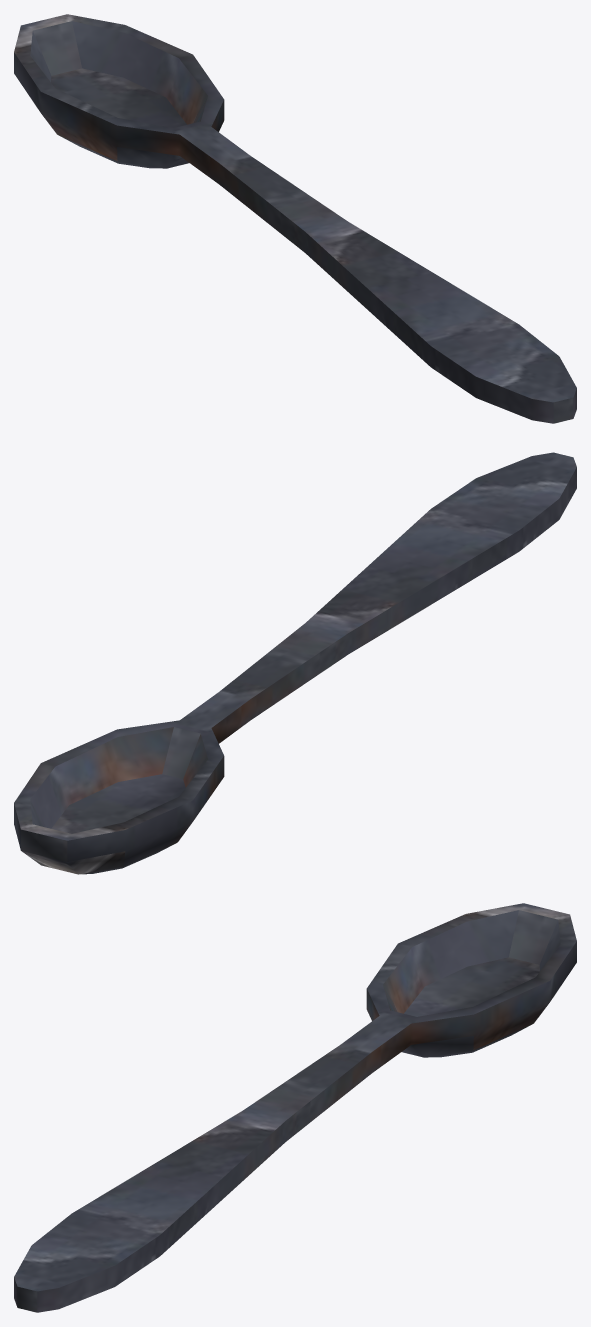
The model's file is tr_spoon.glb.
The picture shows the model from 3 angles, top to bottom: view 1: azimuth 30°, elevation 25°; view 2: azimuth 150°, elevation 25°; view 3: azimuth 330°, elevation 25°; orthographic projection.
Visible parts, largest first — view 1: model; view 2: model; view 3: model.
Boxes of the visible parts, box(x1,y1,x2,y2) form: model: box(14, 14, 576, 423); model: box(14, 452, 576, 874); model: box(14, 903, 576, 1312).
Bounding box in the file's own units: 0.046 × 0.0182 × 0.2718.
1 material, 1 textured.
